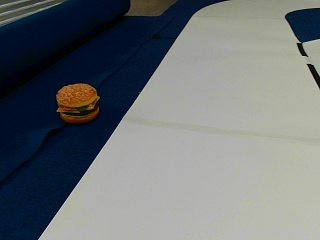burger: (54, 81, 100, 123)
